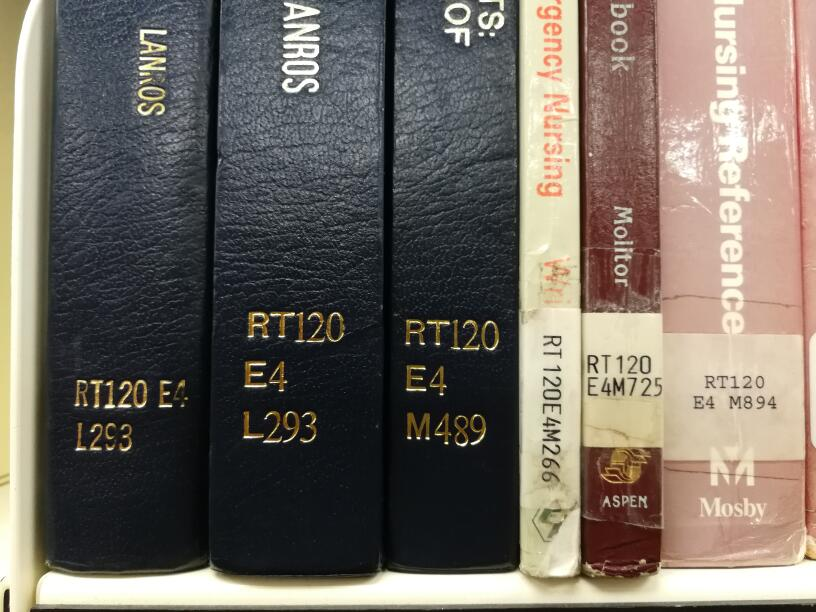booklabel: (238, 305, 352, 452), (397, 312, 503, 453), (71, 373, 194, 459), (537, 329, 567, 486), (584, 352, 665, 400), (689, 371, 781, 412)
